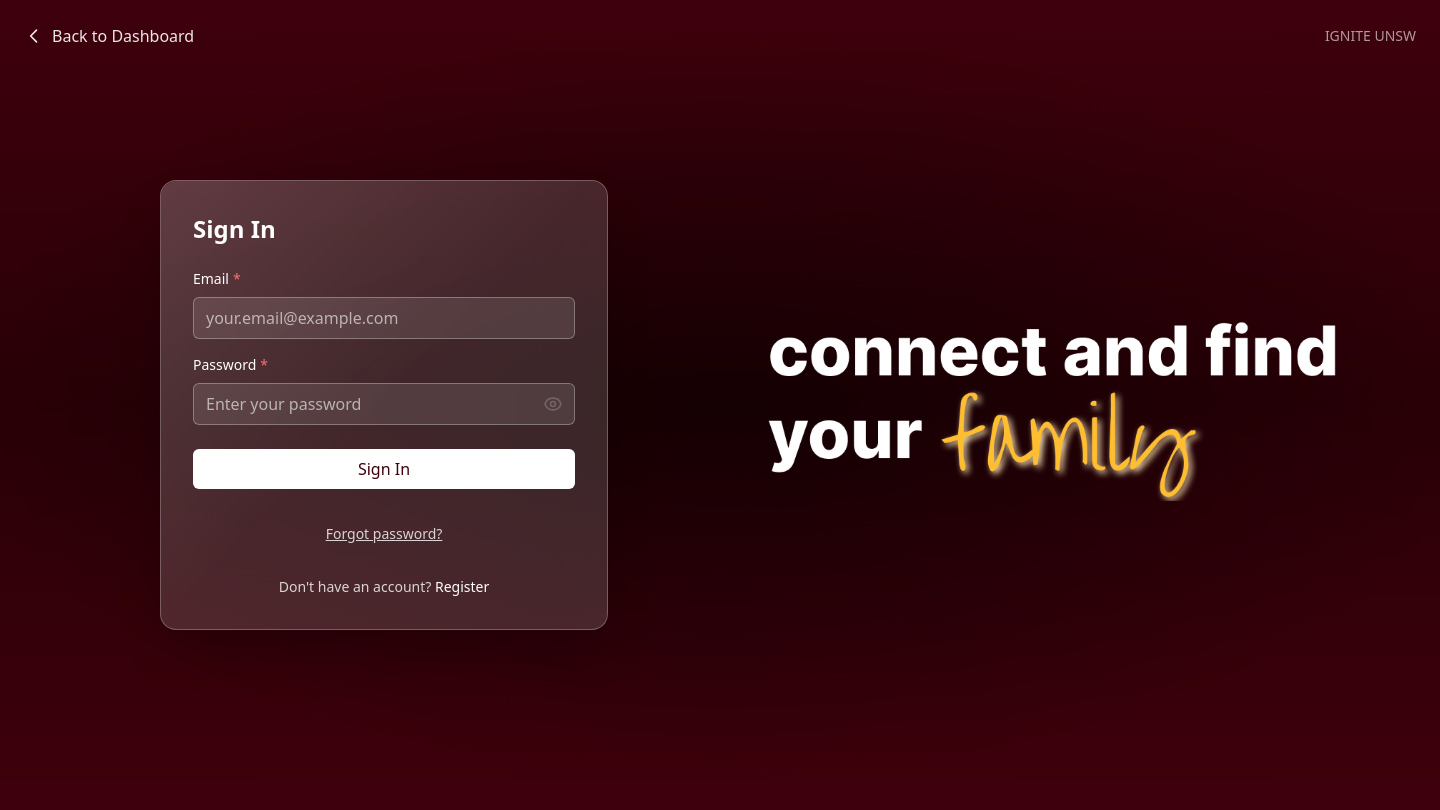
Scenario: Login Page › handles invalid credentials error
Type "invalid@example.com" into the field labelled "Email*" at (384, 318), box [193, 297, 575, 339]
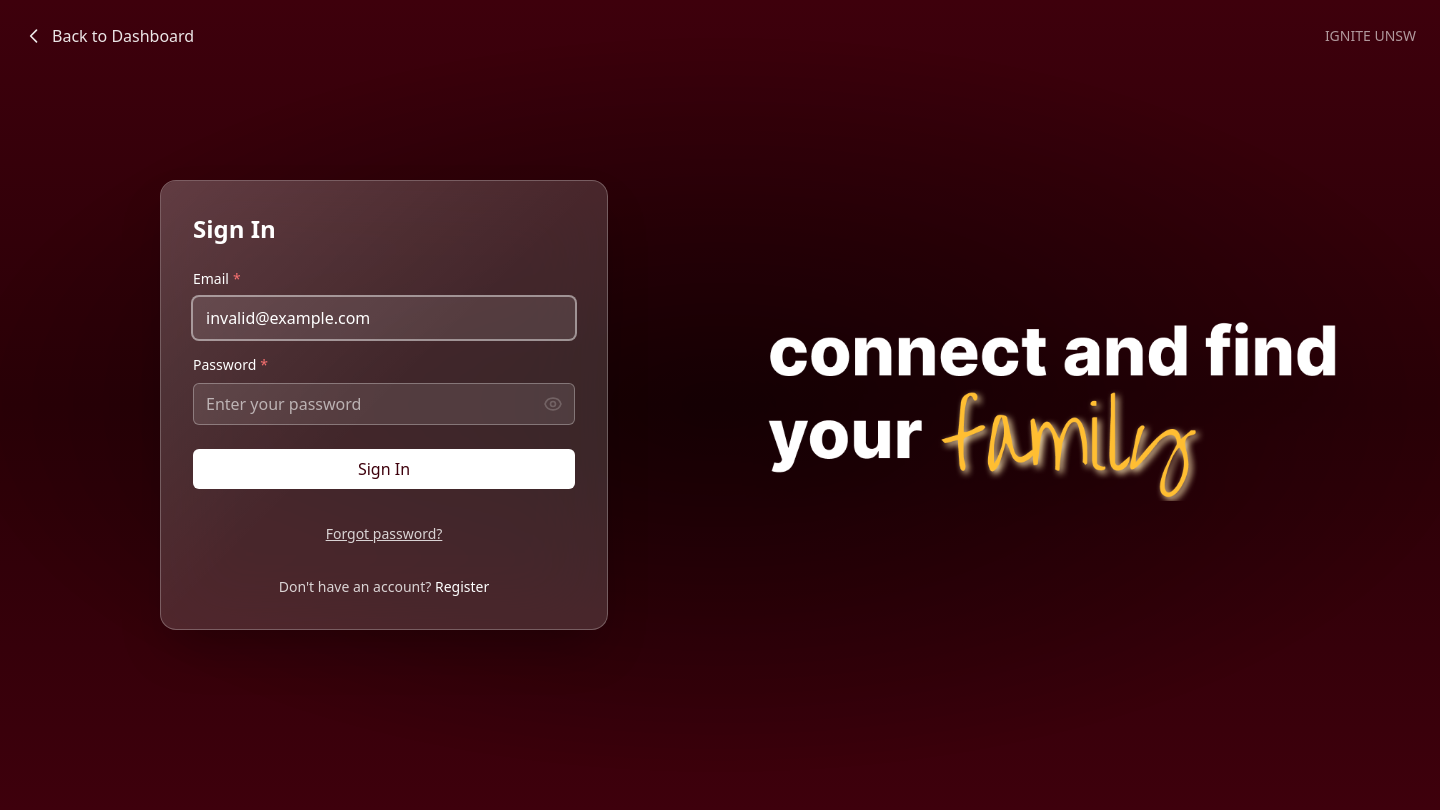
Type "wrongpassword" into the password field with placeholder "Enter your password" at (384, 404), box [193, 383, 575, 425]
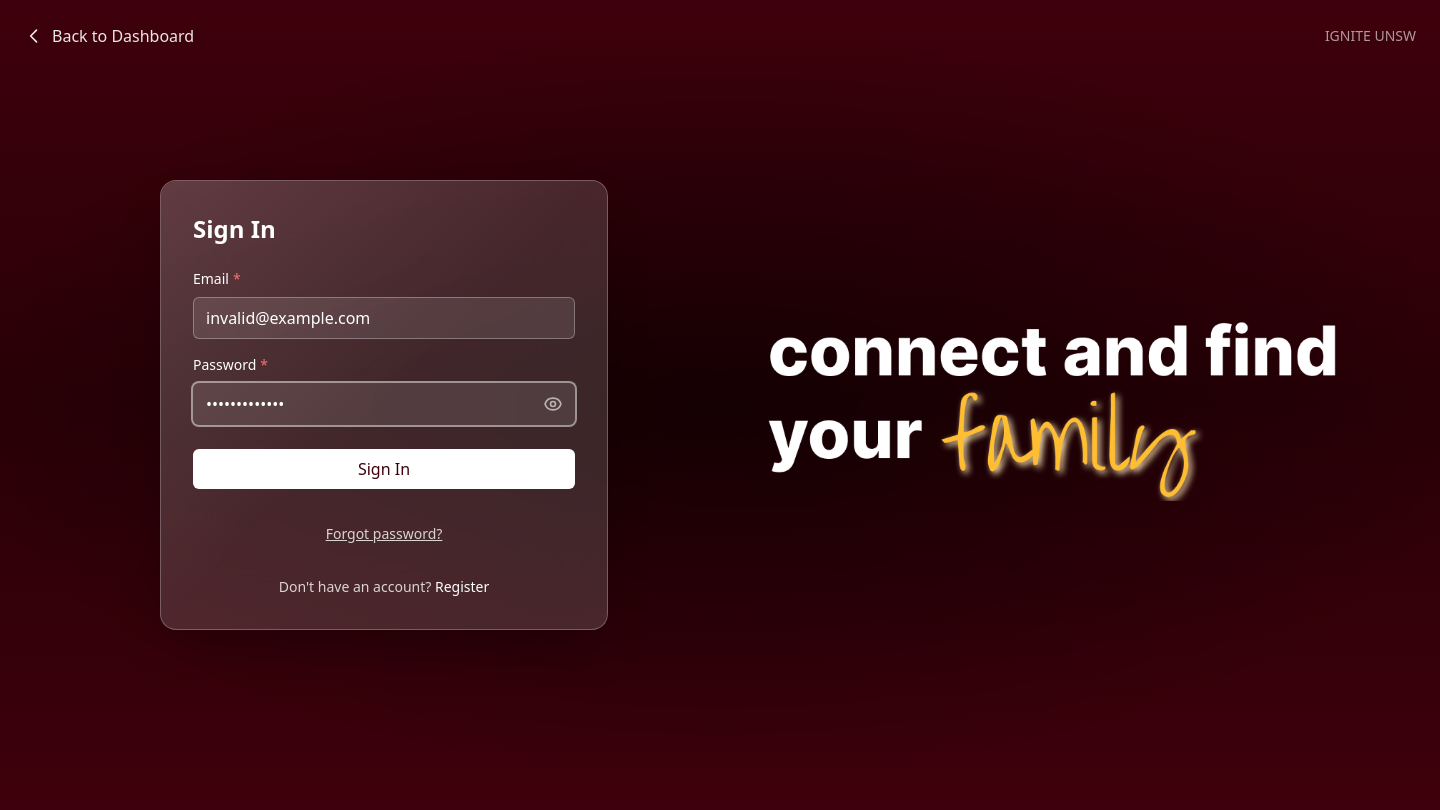
Click the button "Sign In" at (384, 469), box [193, 449, 575, 489]
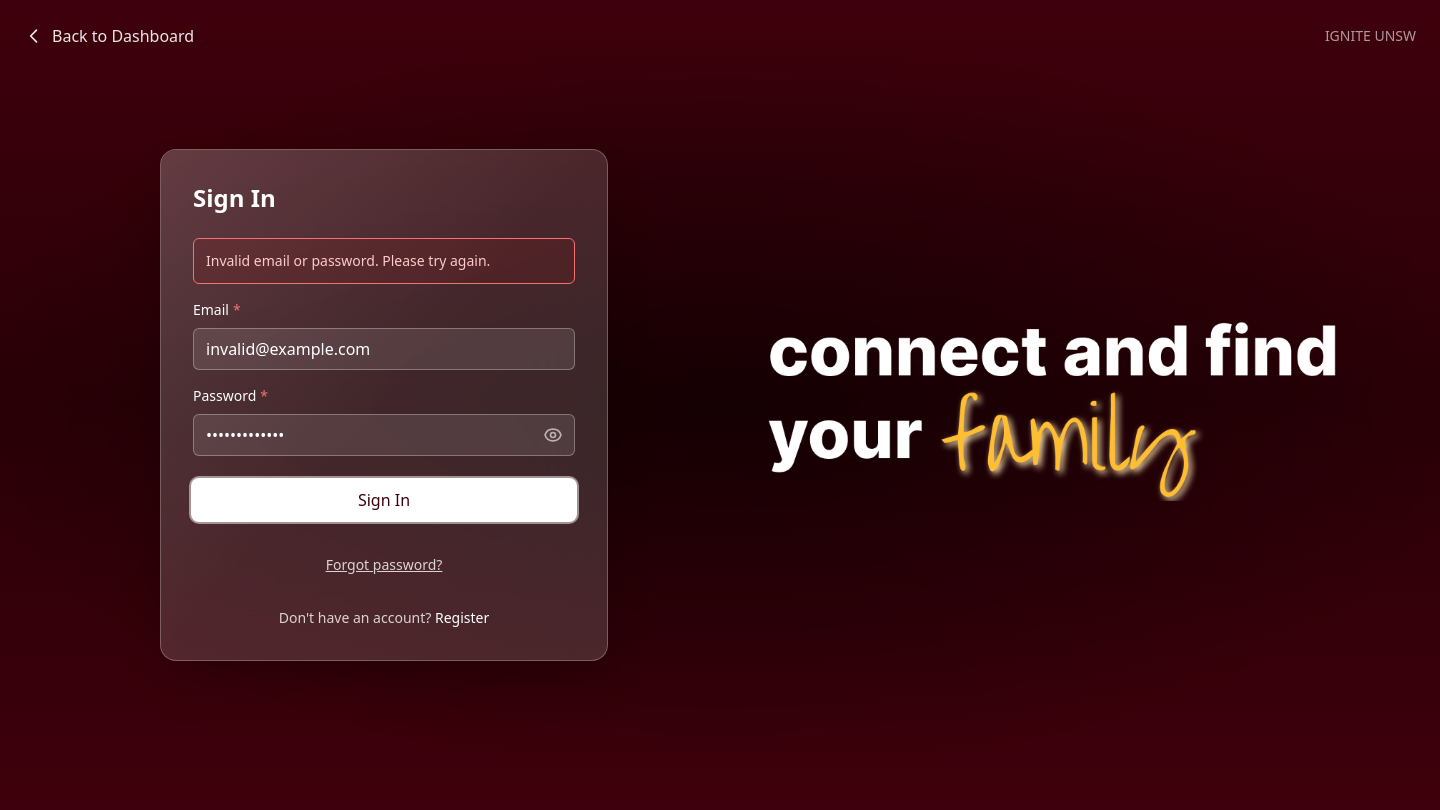
Expected: the text "Invalid email or password. Please try again." is shown, [193, 238, 575, 284]
